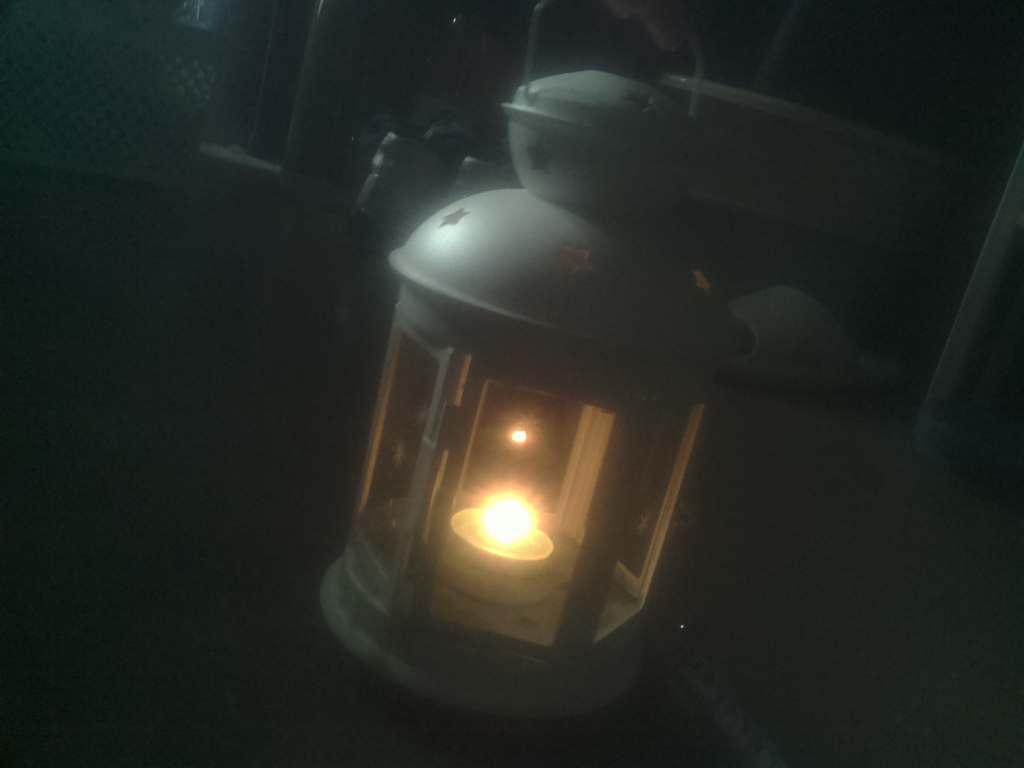fire: (446, 456, 561, 595)
